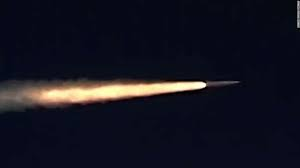ten_lua: (202, 74, 242, 90)
